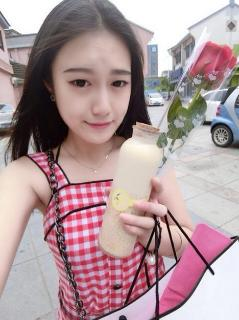sling: (26, 135, 166, 319)
